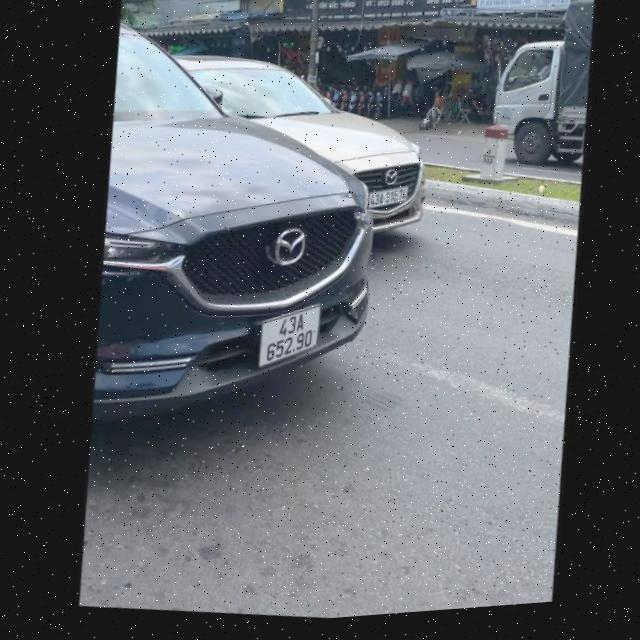car: (74, 8, 439, 468), (132, 19, 448, 257), (476, 0, 593, 182)
plate: (249, 295, 330, 375), (360, 176, 414, 214)
